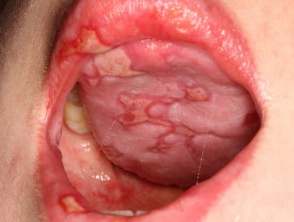SJS-TEN: (112, 75, 226, 180), (48, 14, 158, 110), (50, 183, 99, 222)
